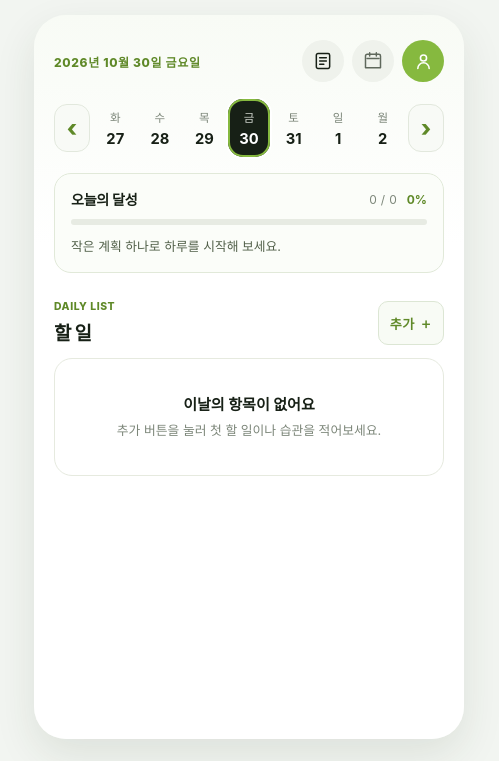
Test case: App › separates the memo list, detail, and edit screens
Check: the text "이날의 항목이 없어요" is shown, box [183,395,315,414]
Click the button named "메모".
click(323, 61)  # box [302,40,344,82]
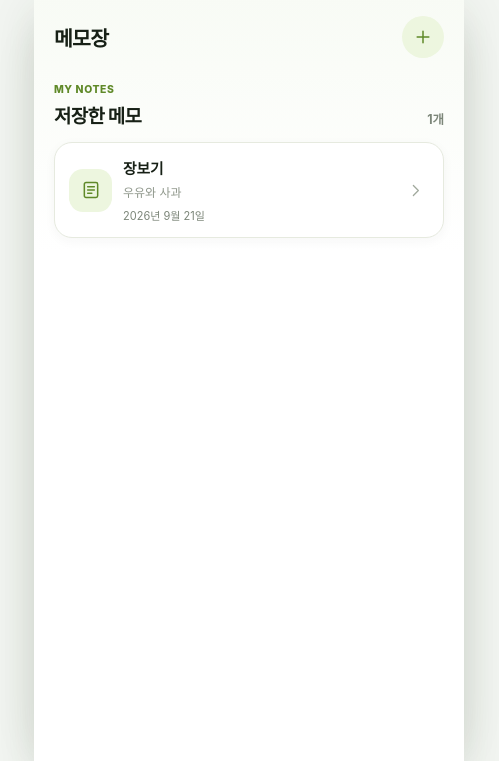
Check: the heading "저장한 메모" is shown, box [54,101,141,128]
Click the button "장보기 우유와 사과 2026년 9월 21일".
click(90, 190)  # box [54,142,444,238]
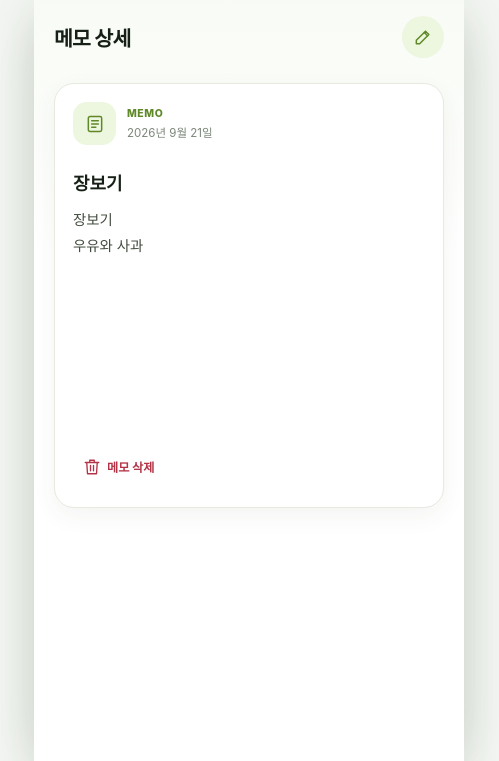
Check: the text "장보기 우유와 사과" is shown, box [73,211,143,254]
Check: the heading "메모 상세" is shown, box [54,22,131,52]
Click the button named "메모 수정".
click(423, 37)  # box [402,16,444,58]
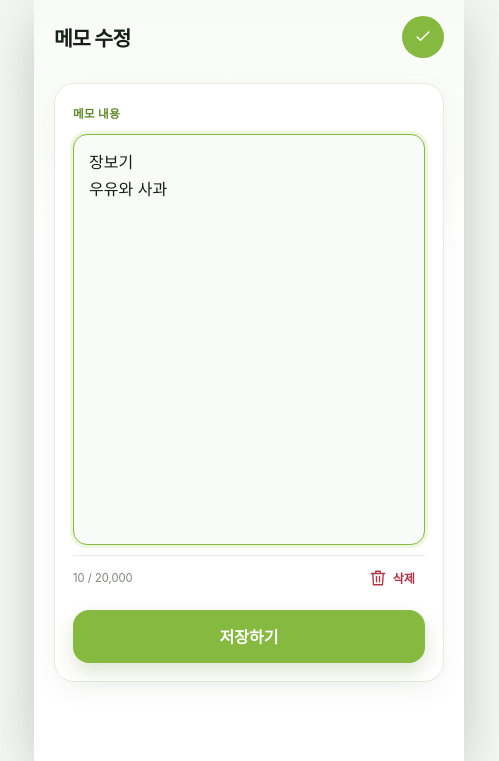
Check: the heading "메모 수정" is shown, box [54,22,131,52]
